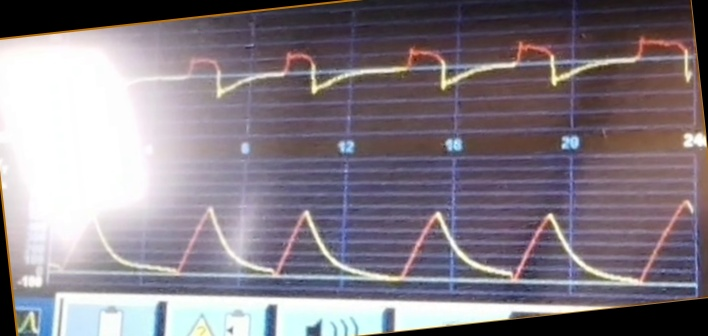Normal Flow: (130, 29, 692, 119)
Normal Volume: (51, 192, 695, 286)
